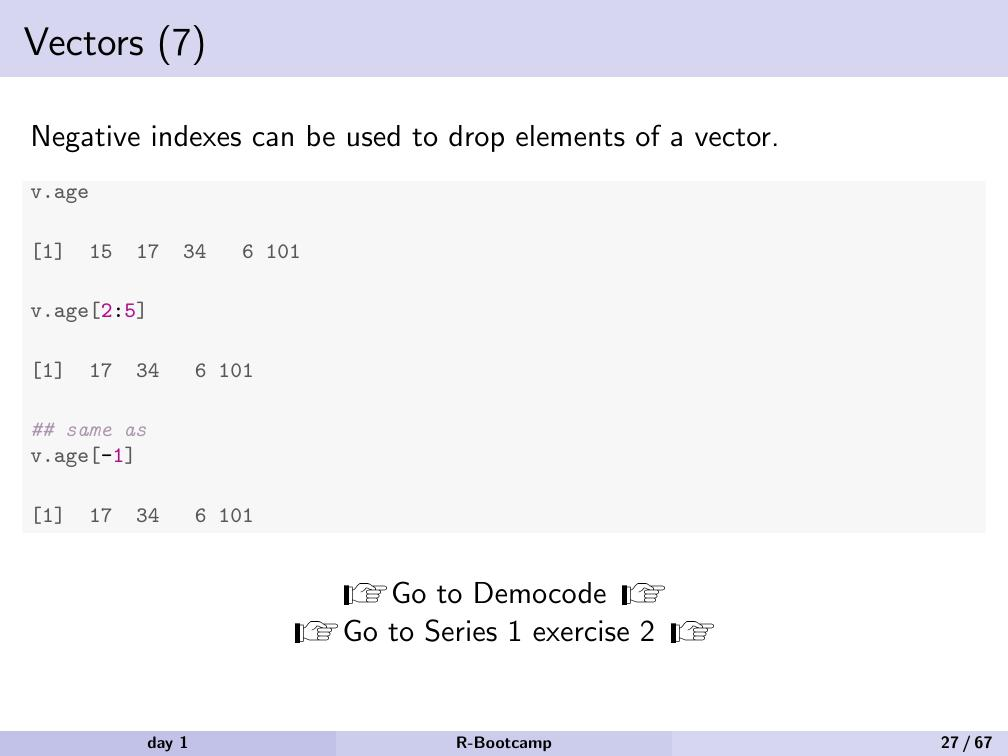Title: (13, 15, 210, 73)
